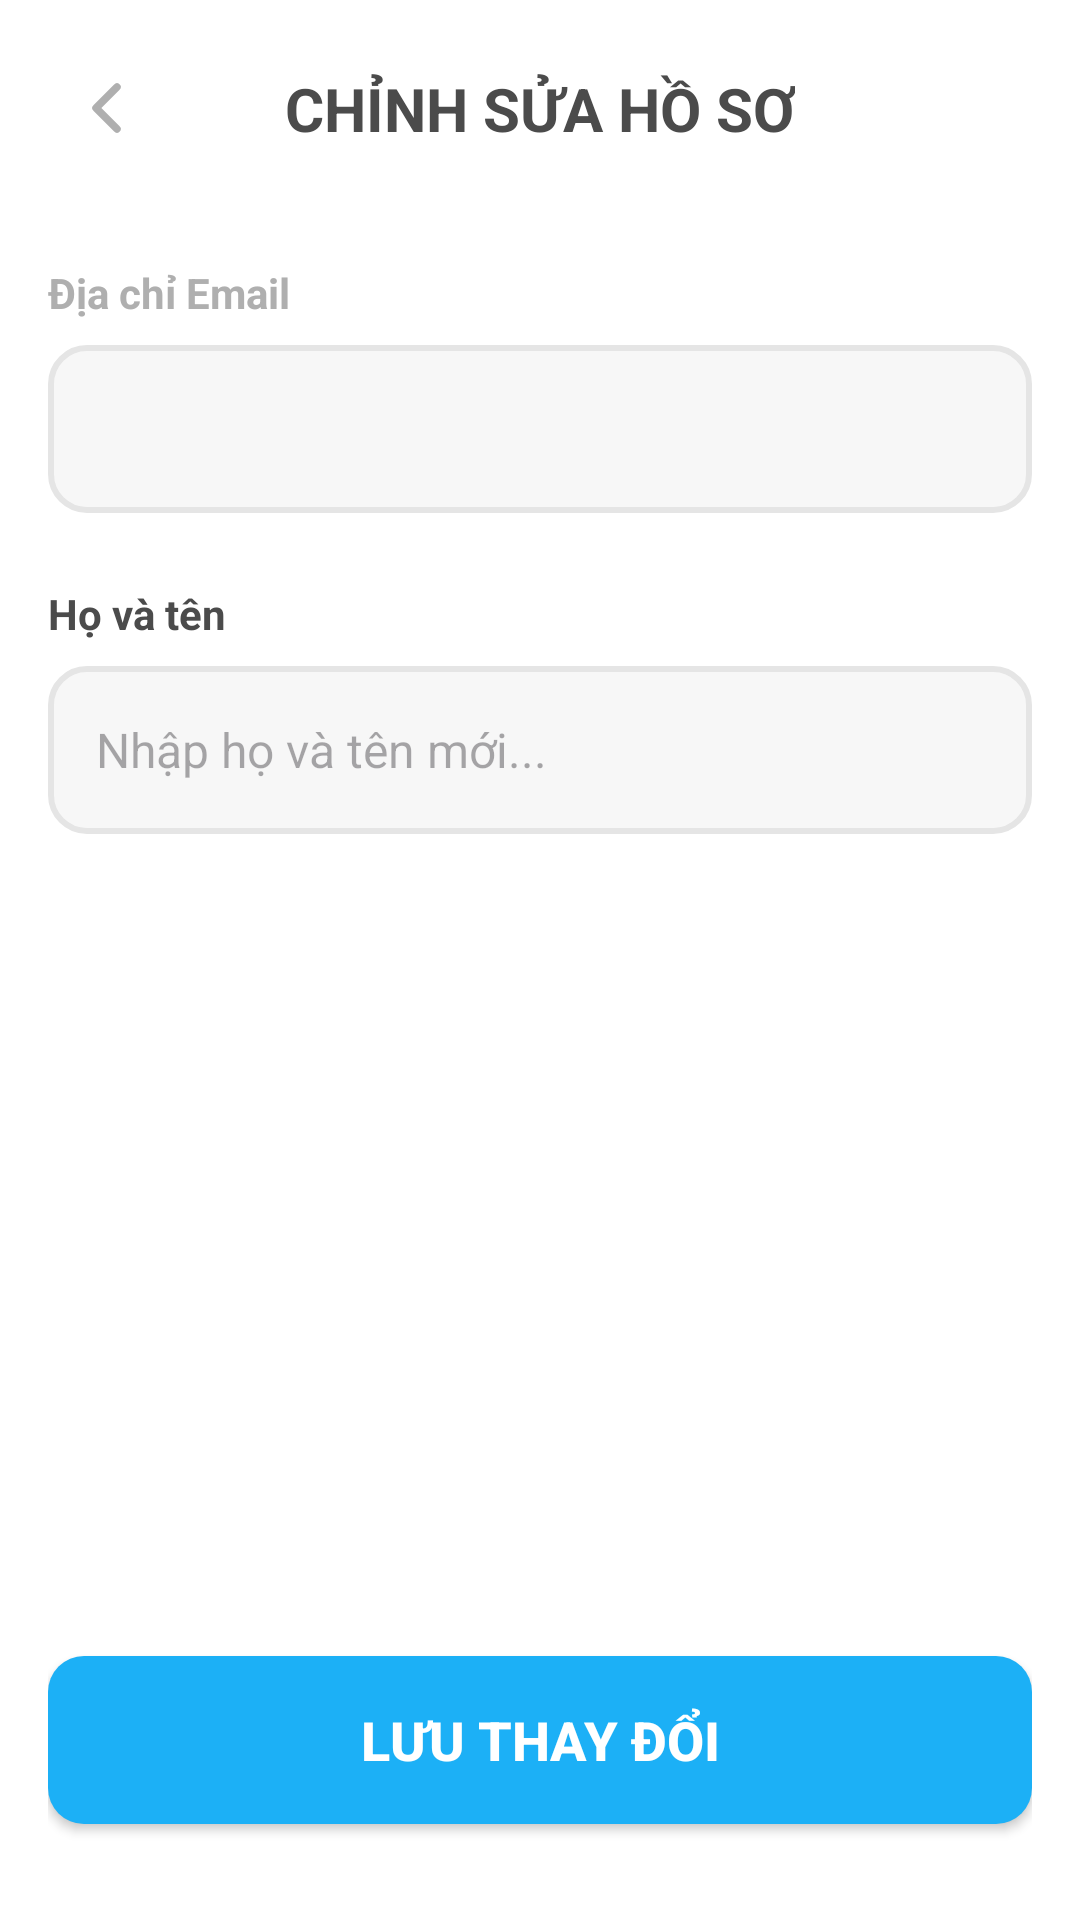

Icon bounding boxes for this 1080*1920 phone screenshot, format bbox(x1, y1, x2, y2):
arrow back: bbox(92, 83, 121, 133)
